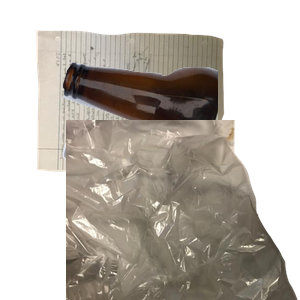glass: (60, 59, 300, 217)
paper: (32, 28, 249, 196)
plastic: (60, 120, 300, 300)
trash: (66, 120, 300, 300)
